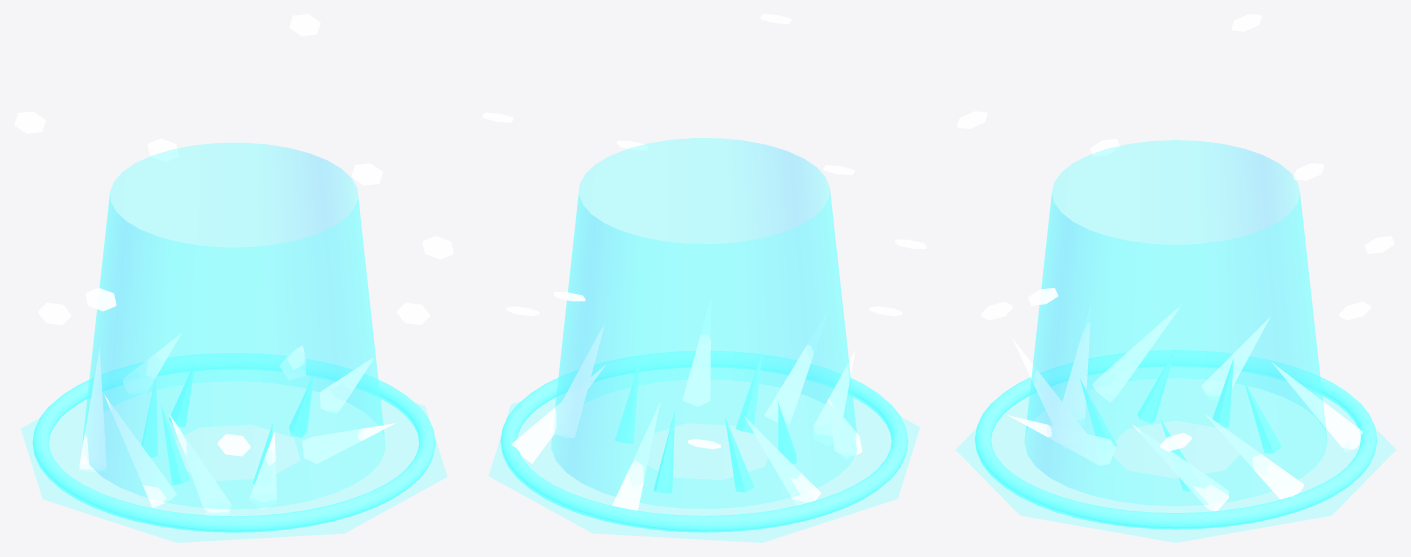
The model's file is vfx_status_chill.glb.
The picture shows the model from 3 angles, left to right: view 1: azimuth 30°, elevation 25°; view 2: azimuth 150°, elevation 25°; view 3: azimuth 270°, elevation 25°; orthographic projection.
Visible parts, largest first — view 1: chill_shell, chill_rime, chill_ring, chill_crystals, chill_crystals_b, chill_flake4, chill_flake1, chill_flake3, chill_flake6, chill_flake0, chill_flake7, chill_flake2 (+2 smaller); view 2: chill_shell, chill_rime, chill_ring, chill_crystals, chill_crystals_b; view 3: chill_shell, chill_rime, chill_ring, chill_crystals, chill_crystals_b.
Boxes of the visible parts, x1,y1,x2,y2 form: chill_shell: [82, 143, 385, 508]; chill_rime: [21, 381, 446, 542]; chill_ring: [32, 353, 435, 532]; chill_crystals: [79, 333, 395, 515]; chill_crystals_b: [141, 363, 313, 484]; chill_flake4: [85, 287, 116, 311]; chill_flake1: [422, 236, 453, 259]; chill_flake3: [217, 434, 250, 456]; chill_flake6: [38, 302, 71, 324]; chill_flake0: [397, 302, 429, 324]; chill_flake7: [147, 138, 178, 161]; chill_flake2: [351, 163, 382, 185]; chill_shell: [551, 138, 856, 508]; chill_rime: [489, 379, 919, 542]; chill_ring: [500, 351, 908, 532]; chill_crystals: [511, 299, 862, 510]; chill_crystals_b: [615, 351, 796, 493]; chill_shell: [1024, 140, 1327, 505]; chill_rime: [956, 378, 1395, 542]; chill_ring: [974, 350, 1377, 529]; chill_crystals: [1007, 305, 1362, 511]; chill_crystals_b: [1080, 348, 1281, 491].
Size of the model in its own units: 1.6 by 1.45 by 1.6.
